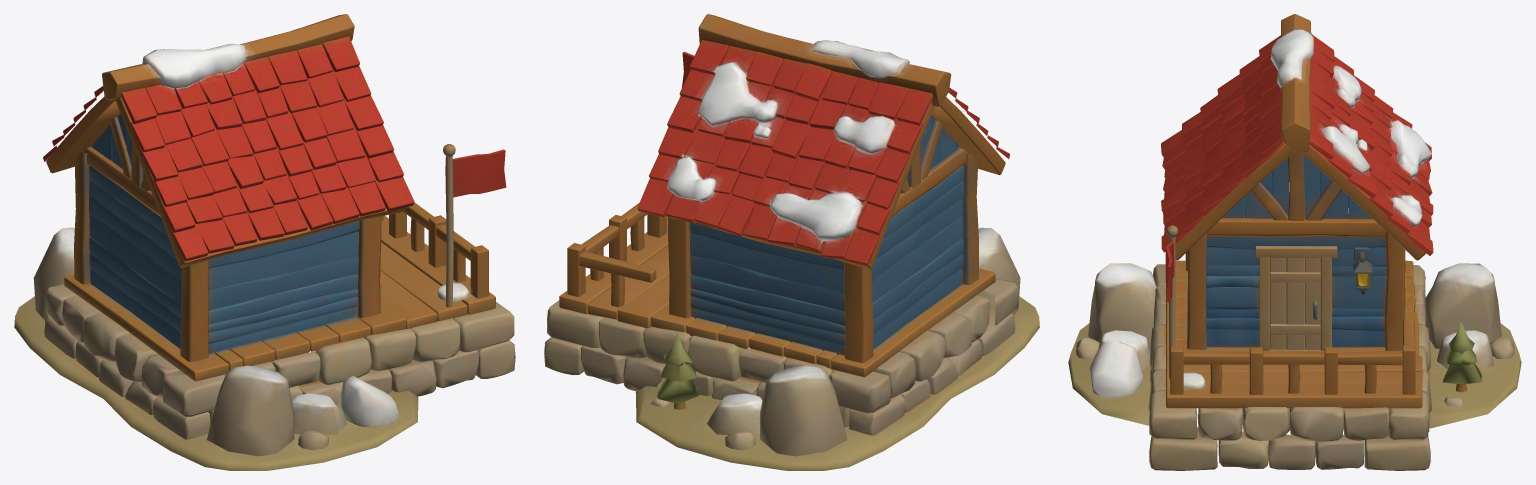
File: toppen.glb
3 views of the same model, side by side, from view 1: azimuth 30°, elevation 25°; view 2: azimuth 150°, elevation 25°; view 3: azimuth 270°, elevation 25° (orthographic). The views are drawn at different scales.
Parts seen in each view (by area): view 1: tripo_node_26698d3c-7e14-4612-9ab7-88486898f152; view 2: tripo_node_26698d3c-7e14-4612-9ab7-88486898f152; view 3: tripo_node_26698d3c-7e14-4612-9ab7-88486898f152.
Boxes of the visible parts, x1,y1,x2,y2 form: tripo_node_26698d3c-7e14-4612-9ab7-88486898f152: [14, 14, 515, 470]; tripo_node_26698d3c-7e14-4612-9ab7-88486898f152: [544, 14, 1039, 470]; tripo_node_26698d3c-7e14-4612-9ab7-88486898f152: [1068, 14, 1521, 470].
Bounding box in the file's own units: 0.8315 × 0.7573 × 0.9995.
1 material, 1 textured.
